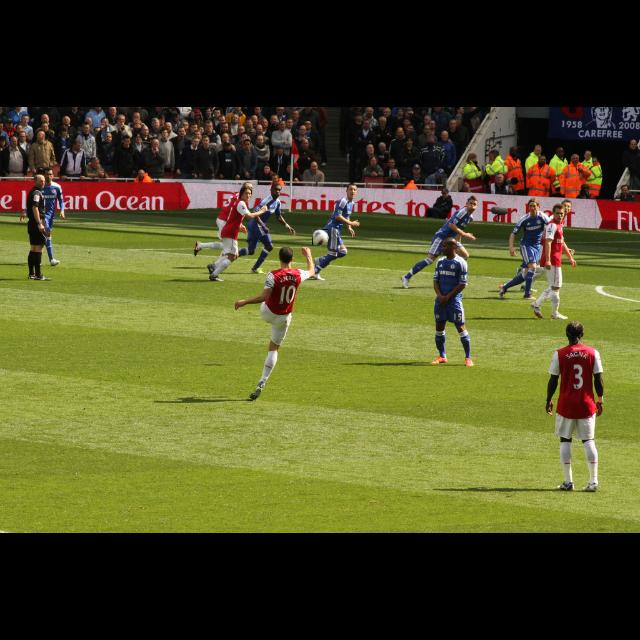Football: (312, 229, 328, 245)
